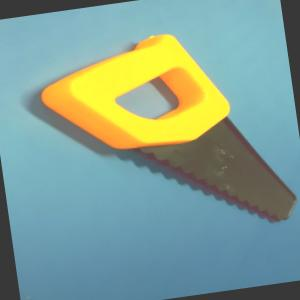serrote: (31, 16, 300, 252)
